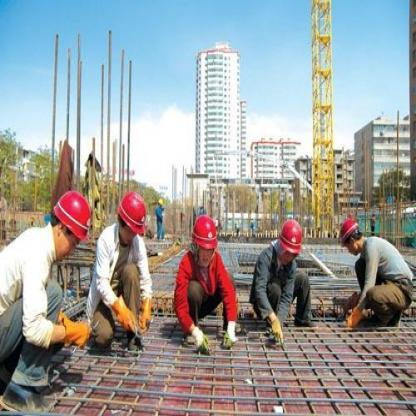helmet: (46, 186, 96, 256), (116, 186, 148, 246), (191, 210, 221, 263), (276, 216, 306, 266), (338, 214, 363, 252)
